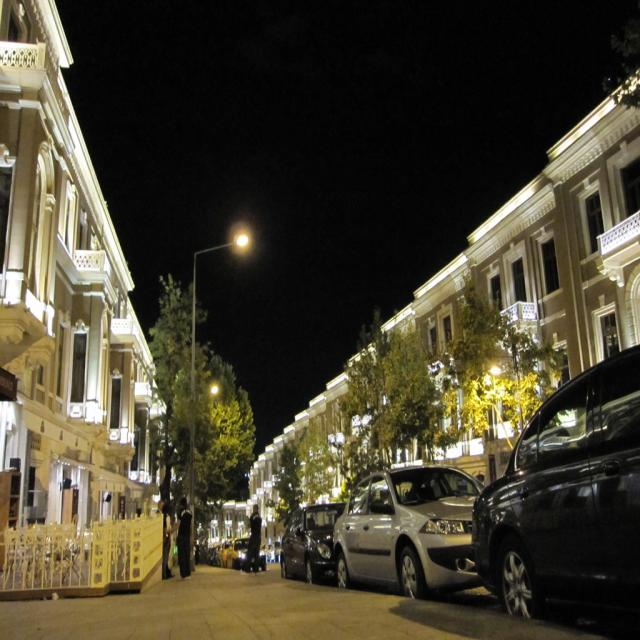car: (224, 538, 264, 567)
